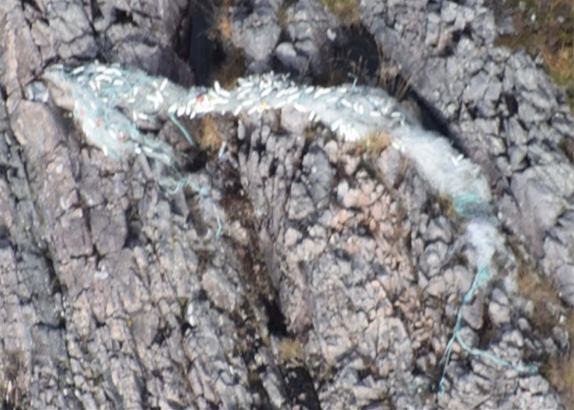net: (46, 62, 415, 165), (404, 118, 502, 329)
tube: (456, 331, 511, 371)
